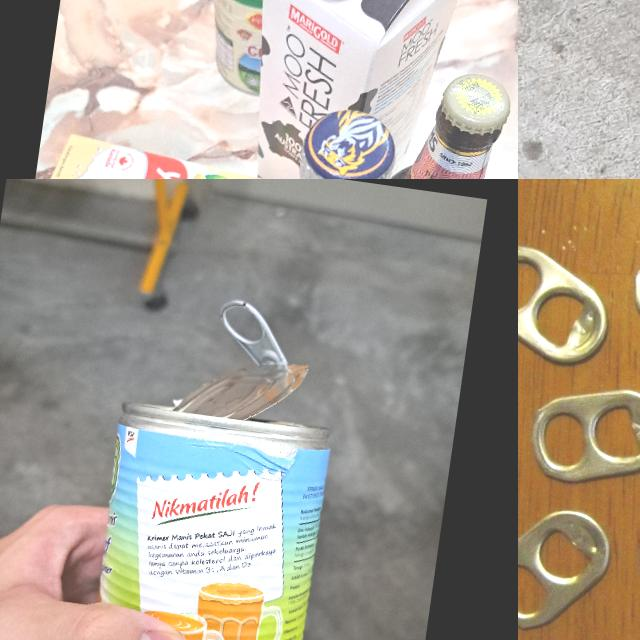aba de lata: (522, 375, 640, 496), (518, 496, 616, 639), (518, 240, 616, 371), (214, 292, 298, 373)
caixinha: (231, 0, 468, 179), (33, 130, 274, 179)
garrafa de vidro: (209, 97, 437, 179), (363, 65, 513, 179)
lata: (74, 396, 336, 640), (192, 0, 294, 98)
sacola plástica: (518, 78, 591, 179)
